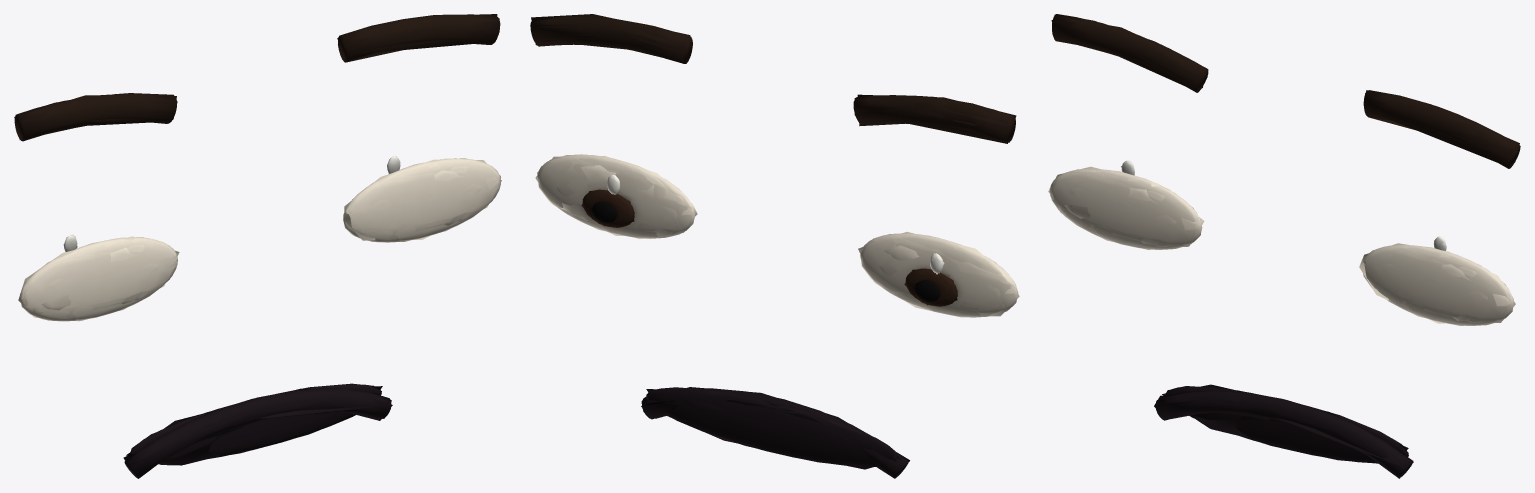
Rendered from crying.glb.
3 renders of one model, left to right at view 1: azimuth 30°, elevation 25°; view 2: azimuth 150°, elevation 25°; view 3: azimuth 330°, elevation 25°, orthographic. The views are drawn at different scales.
Parts seen in each view (by area): view 1: near, mid, far; view 2: near, mid, far; view 3: near, mid, far.
Boxes of the visible parts, <box> form: near: <box>14,15,500,478</box>; mid: <box>15,14,500,478</box>; far: <box>14,14,501,469</box>; near: <box>530,16,1017,478</box>; mid: <box>530,17,1018,477</box>; far: <box>531,14,1019,478</box>; near: <box>1050,14,1520,477</box>; mid: <box>1049,14,1520,477</box>; far: <box>1048,20,1519,478</box>.
Bounding box in the file's own units: 0.674 × 0.5272 × 0.0541.
Materials: 6 (6 with a texture image).
